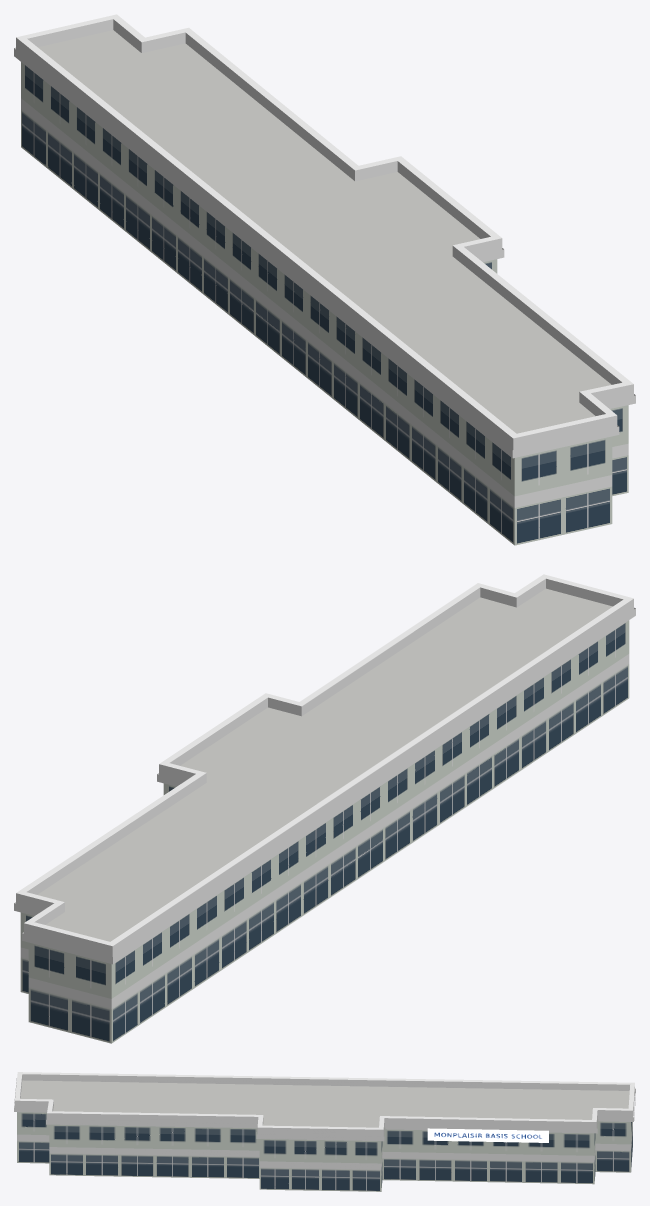
The model's file is monplaisir.glb.
The picture shows the model from 3 angles, top to bottom: view 1: azimuth 30°, elevation 25°; view 2: azimuth 150°, elevation 25°; view 3: azimuth 270°, elevation 25°; orthographic projection. The views are drawn at different scales.
Parts seen in each view (by area): view 1: monplaisir_lod0; view 2: monplaisir_lod0; view 3: monplaisir_lod0.
Boxes of the visible parts, bbox=[...] form: monplaisir_lod0: bbox=[14, 14, 635, 545]; monplaisir_lod0: bbox=[14, 574, 635, 1043]; monplaisir_lod0: bbox=[14, 1072, 635, 1191].
Size of what is drawn, in the model's own units: 15.93 by 8 by 71.52.
Materials: 5 (3 with a texture image).
